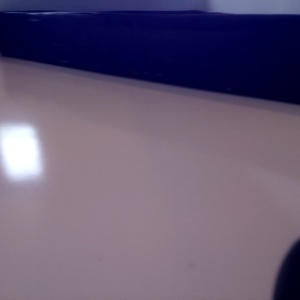zone: (1, 13, 300, 120)
